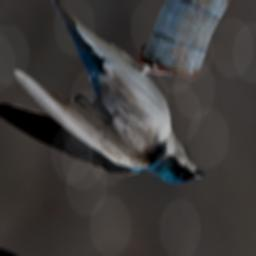Swallow: (0, 0, 253, 214)
